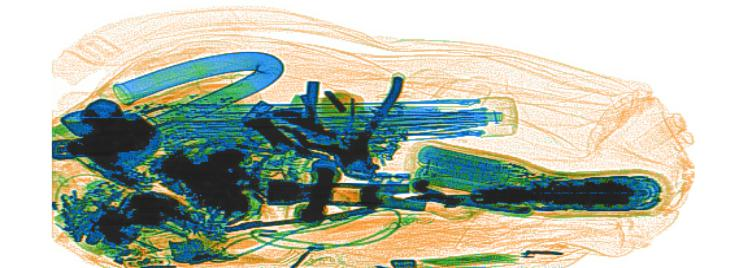battery: (415, 143, 510, 195)
